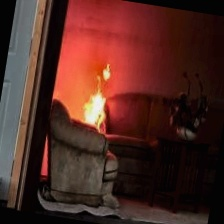fire: (70, 58, 117, 131)
